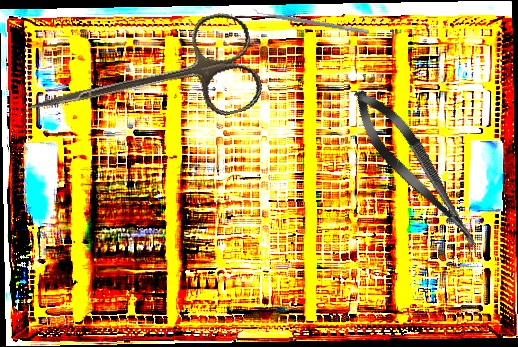Iris Scissors: (17, 7, 267, 162)
Micro Scissor: (341, 79, 494, 263)
Spatula Surgical: (251, 6, 370, 35)
